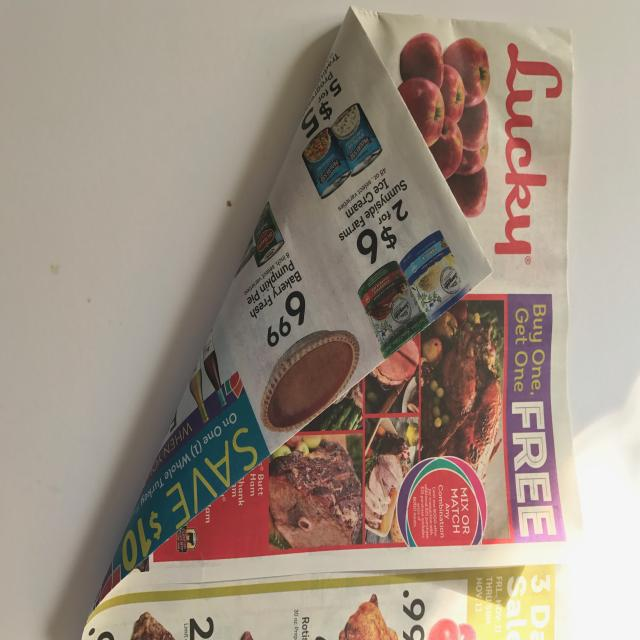paper: (74, 0, 584, 640)
